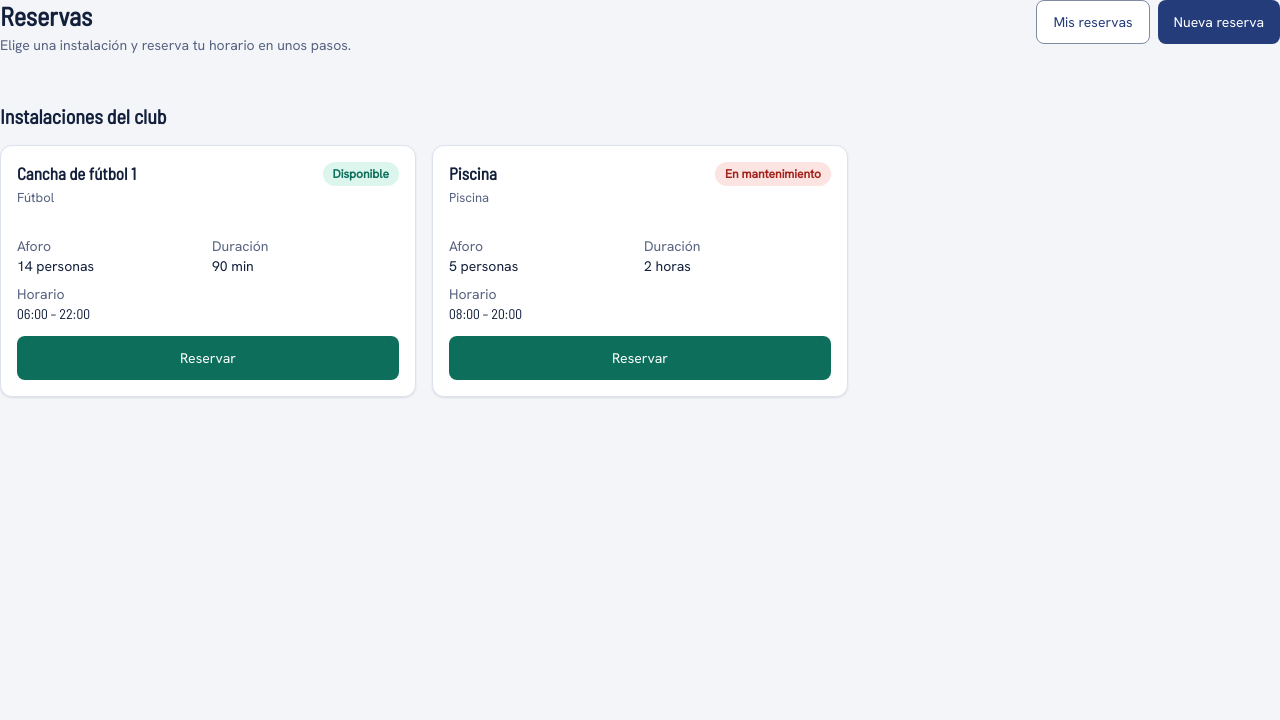
Scenario: ReservationsPage — catálogo (US-028, US-073) › muestra un único aviso a nivel de recurso cuando el mantenimiento es indefinido, sin repetirlo franja por franja
This screenshot has width=1280, height=720.
Expected: the heading "Piscina" is shown, [449,162,497,185]
Click the button with aria-label "Reservar Piscina" at (640, 358), box [449,336,831,380]
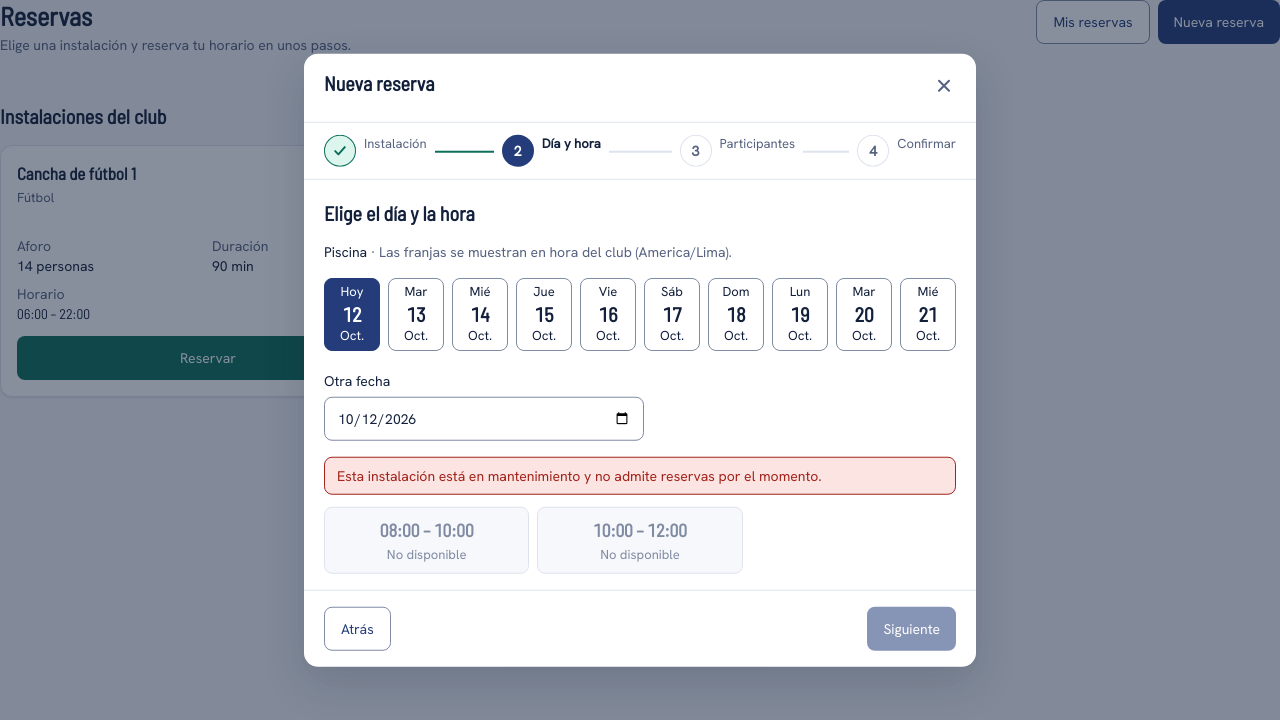
Now the text "Esta instalación está en mantenimiento y no admite reservas por el momento." is shown, box [324,456,956,494]
Now the text "No disponible" is shown 2 times, box [387,545,466,564]; [600,545,680,564]
Now the button "Siguiente" is disabled, box [867,606,956,650]
